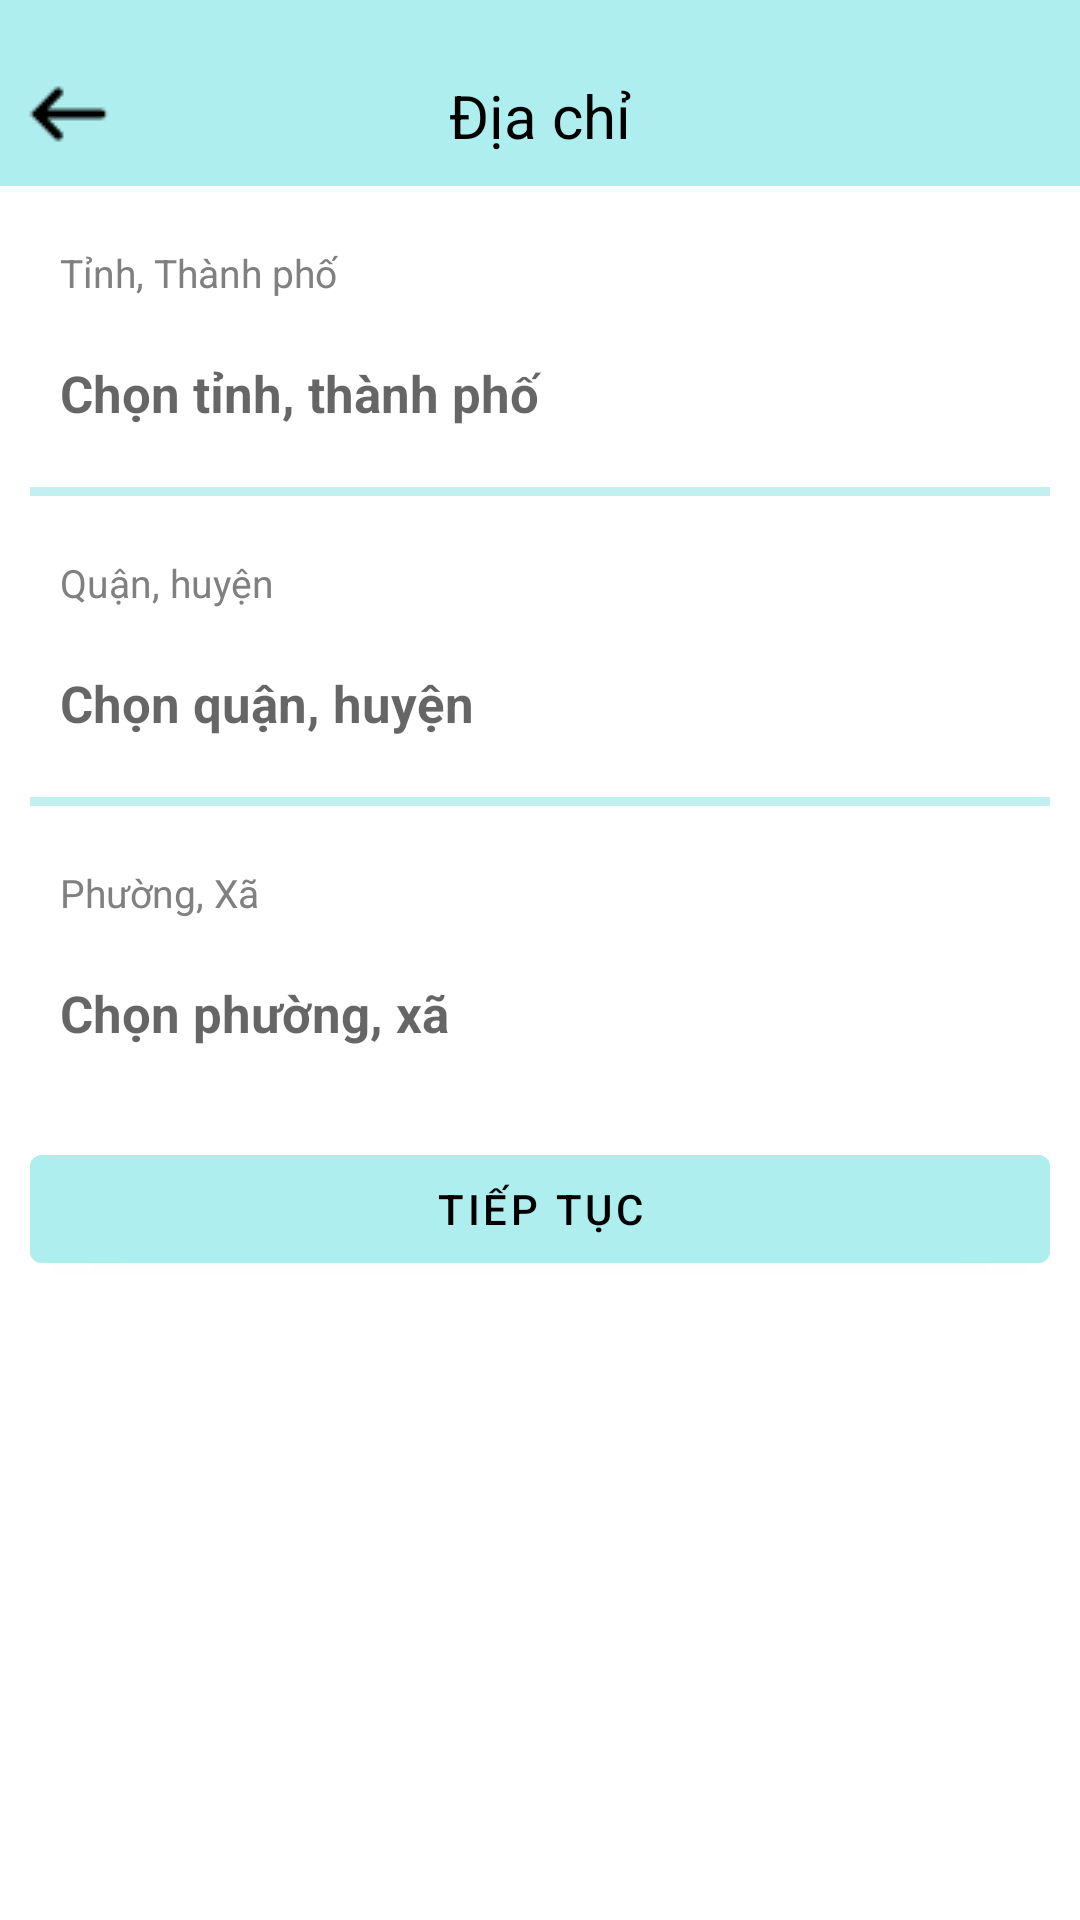

Screen size 1080px x 1920px. Icon name, then its box in pixels as Rect(x1, y1, x2, y2):
back: Rect(30, 86, 107, 142)
